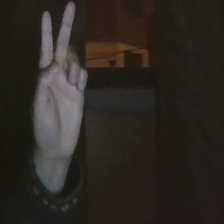K: (21, 1, 94, 168)
